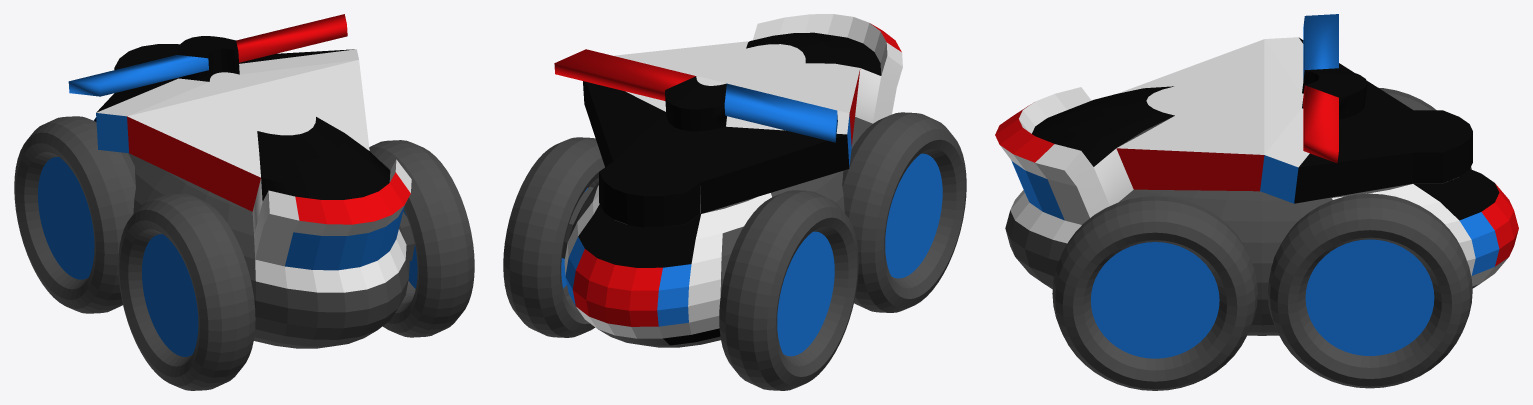
File: police.fbx
3 views of the same model, side by side, from view 1: azimuth 30°, elevation 25°; view 2: azimuth 150°, elevation 25°; view 3: azimuth 270°, elevation 25° (orthographic). The views are drawn at different scales.
Parts seen in each view (by area): view 1: Car; view 2: Car; view 3: Car.
Part boxes in pixels (x1,y1,x2,y2): Car: (14, 14, 474, 390); Car: (503, 14, 966, 390); Car: (995, 14, 1518, 390).
Bounding box in the file's own units: 254 × 218 × 408.
